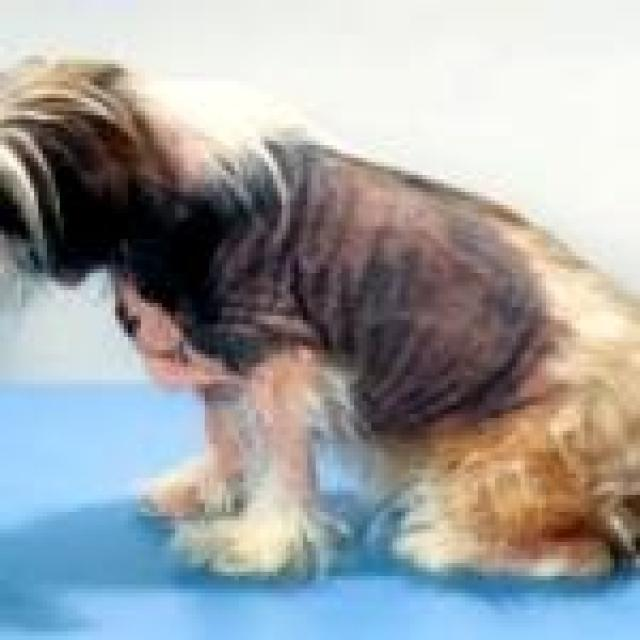fungal infection: (339, 172, 448, 262), (123, 307, 229, 385), (259, 421, 321, 501), (411, 274, 493, 334), (258, 357, 317, 415), (199, 400, 247, 469), (145, 479, 190, 520)
